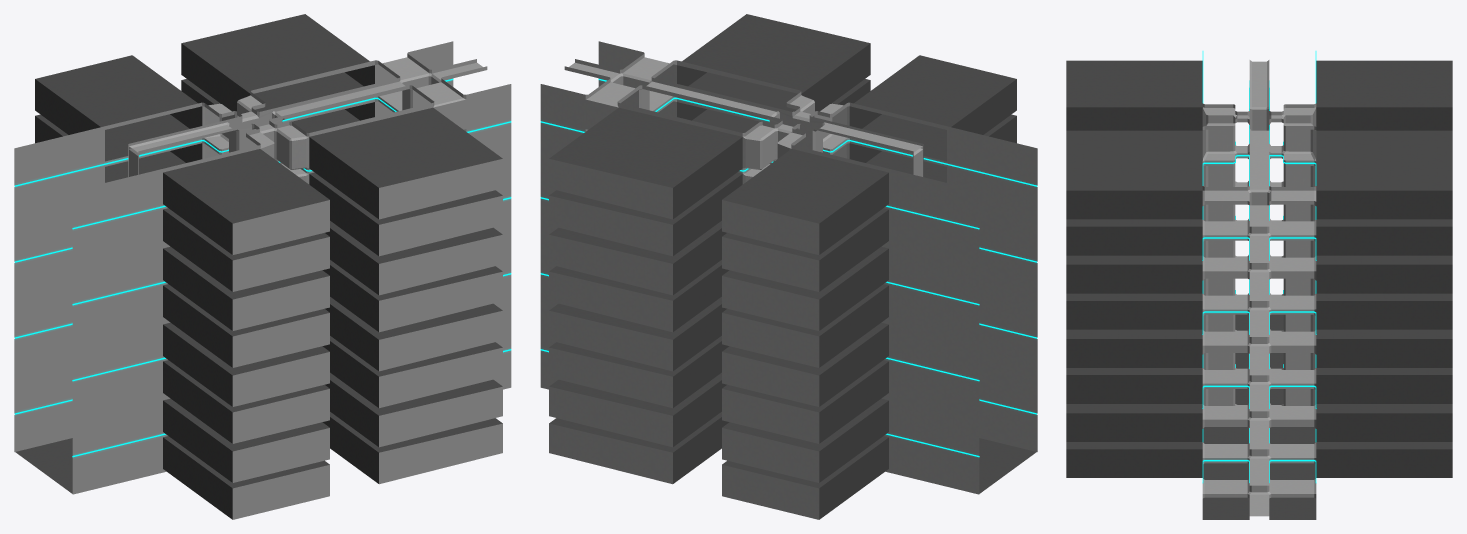
File: Hangar_Basement.fbx
3 renders of one model, left to right at view 1: azimuth 30°, elevation 25°; view 2: azimuth 150°, elevation 25°; view 3: azimuth 270°, elevation 25°, orthographic. The views are drawn at different scales.
Parts seen in each view (by area): view 1: Hangar_Basement; view 2: Hangar_Basement; view 3: Hangar_Basement.
Part boxes in pixels (left/top/right/bottom): Hangar_Basement: left=14, top=14, right=511, bottom=519; Hangar_Basement: left=540, top=14, right=1037, bottom=519; Hangar_Basement: left=1066, top=51, right=1452, bottom=519.
Bounding box in the file's own units: 38210 × 25289 × 29830.
